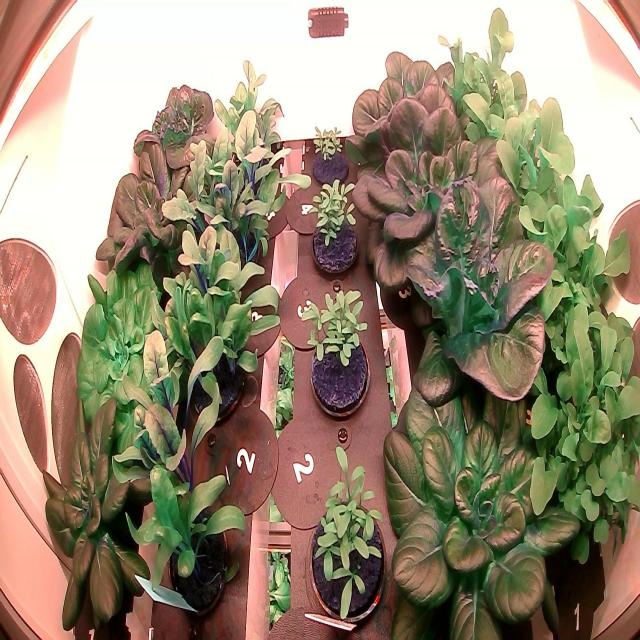Ready: (375, 344, 590, 636), (371, 156, 558, 426), (348, 92, 528, 307), (347, 44, 489, 188)
young: (69, 245, 203, 478), (38, 389, 161, 639), (90, 114, 206, 293), (129, 71, 227, 206)
